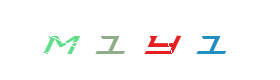1: (100, 0, 180, 80), (172, 0, 252, 80)
M: (47, 0, 127, 80)
Y: (122, 0, 202, 80)
